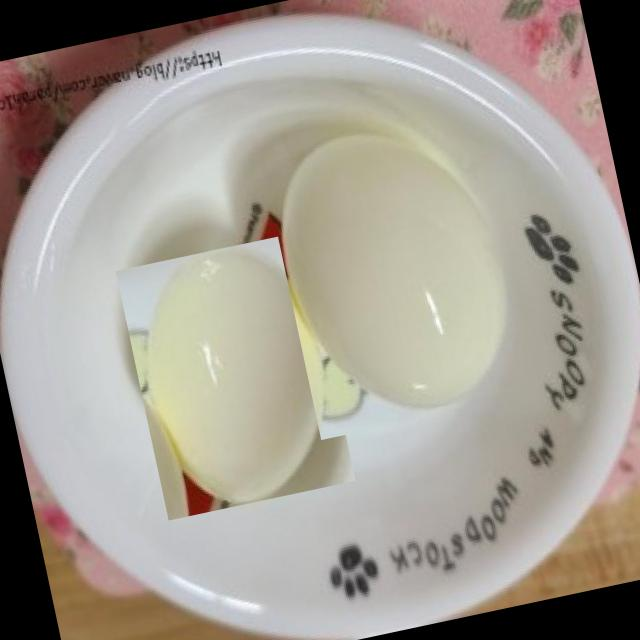eggs: (258, 100, 534, 440), (114, 230, 356, 520)
